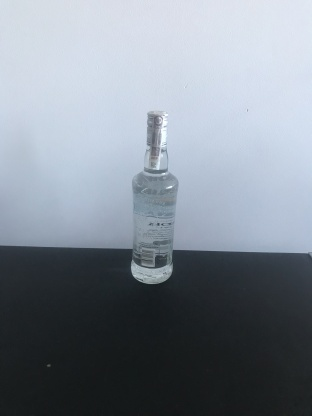nakretka: (144, 108, 170, 149)
